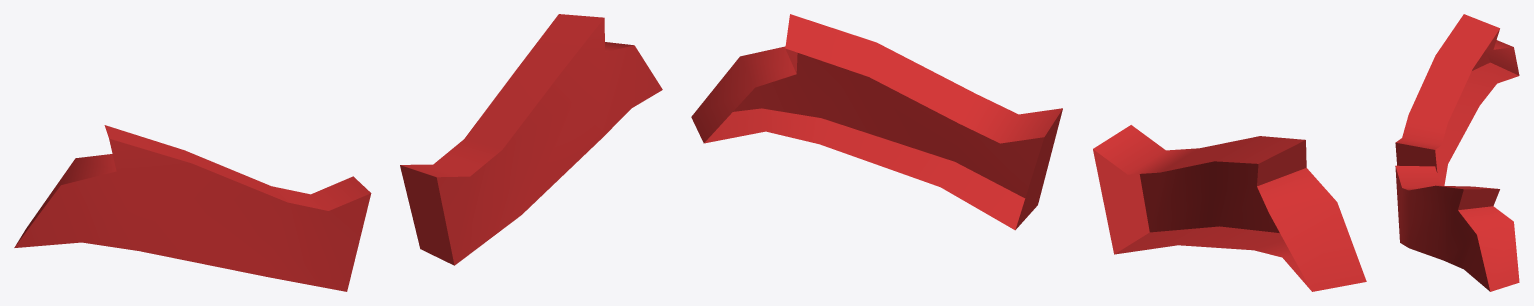
The model's file is Brow_Red_7.fbx.
3 renders of one model, left to right at view 1: azimuth 30°, elevation 25°; view 2: azimuth 150°, elevation 25°; view 3: azimuth 270°, elevation 25°, orthographic. The views are drawn at different scales.
Visible parts, largest first — view 1: Brow_Red_7; view 2: Brow_Red_7; view 3: Brow_Red_7.
Part boxes in pixels (box(x1,y1,x2,y2)): Brow_Red_7: box(14, 14, 662, 291); Brow_Red_7: box(691, 14, 1366, 291); Brow_Red_7: box(1395, 14, 1519, 291).
Bounding box in the file's own units: 38.5 × 9.68 × 8.8.
